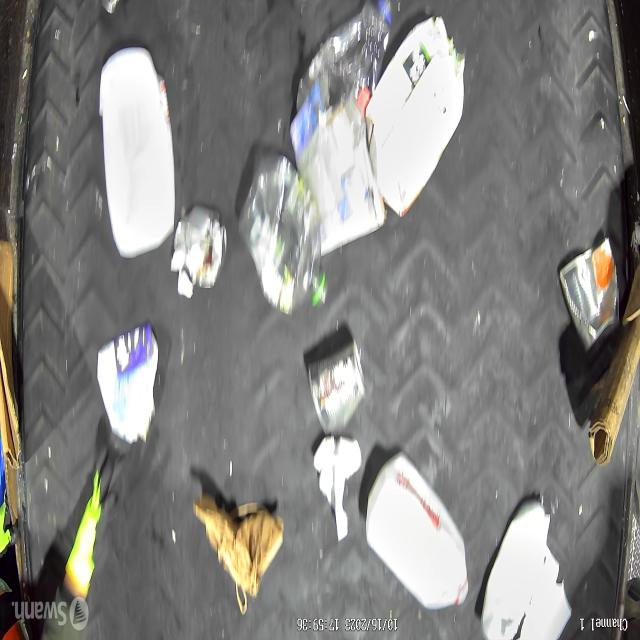can: (558, 237, 620, 355), (308, 342, 364, 434)
milk_jug: (365, 451, 469, 608), (98, 48, 175, 260)
non_white_jug: (366, 16, 465, 216)
plastic_bottle: (238, 150, 328, 314)
